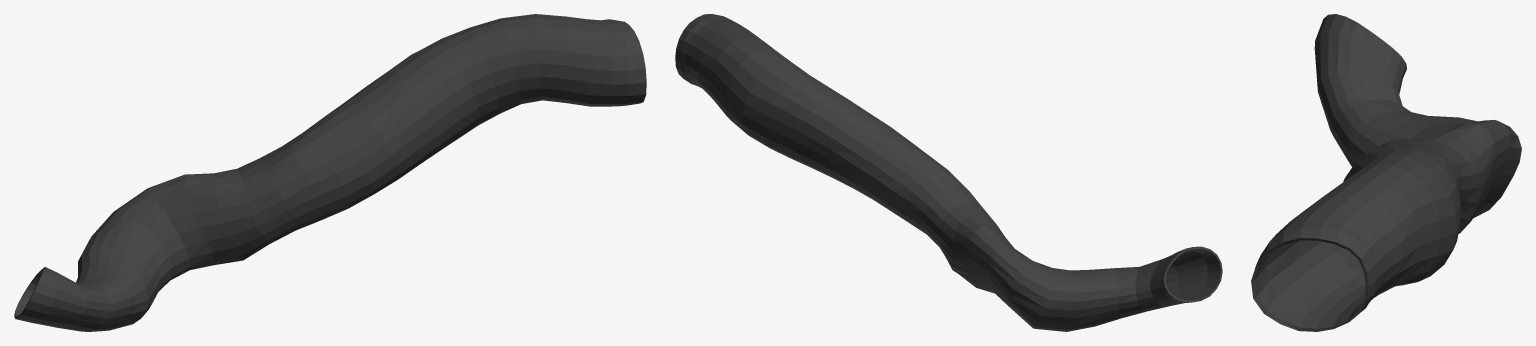
The model's file is colon_descending_LP.glb.
The picture shows the model from 3 angles, left to right: view 1: azimuth 30°, elevation 25°; view 2: azimuth 150°, elevation 25°; view 3: azimuth 270°, elevation 25°; orthographic projection. The views are drawn at different scales.
Parts seen in each view (by area): view 1: colon_descending_LP; view 2: colon_descending_LP; view 3: colon_descending_LP.
Part boxes in pixels (bbox=[...]): colon_descending_LP: bbox=[14, 14, 646, 331]; colon_descending_LP: bbox=[675, 14, 1222, 331]; colon_descending_LP: bbox=[1251, 14, 1521, 331].
Size of the model in its own units: 0.0171 by 0.00586 by 0.00501.
Materials: 1 (1 with a texture image).
